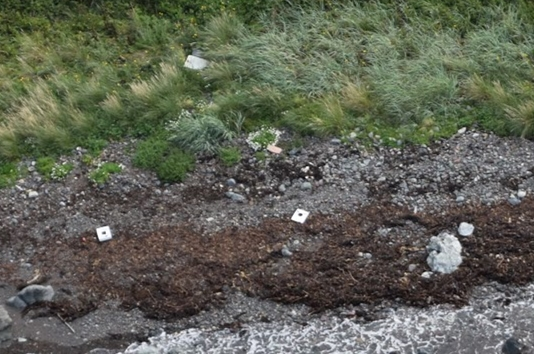white_in_green: (229, 106, 298, 171), (161, 33, 229, 91), (78, 211, 129, 257), (278, 193, 329, 239)
